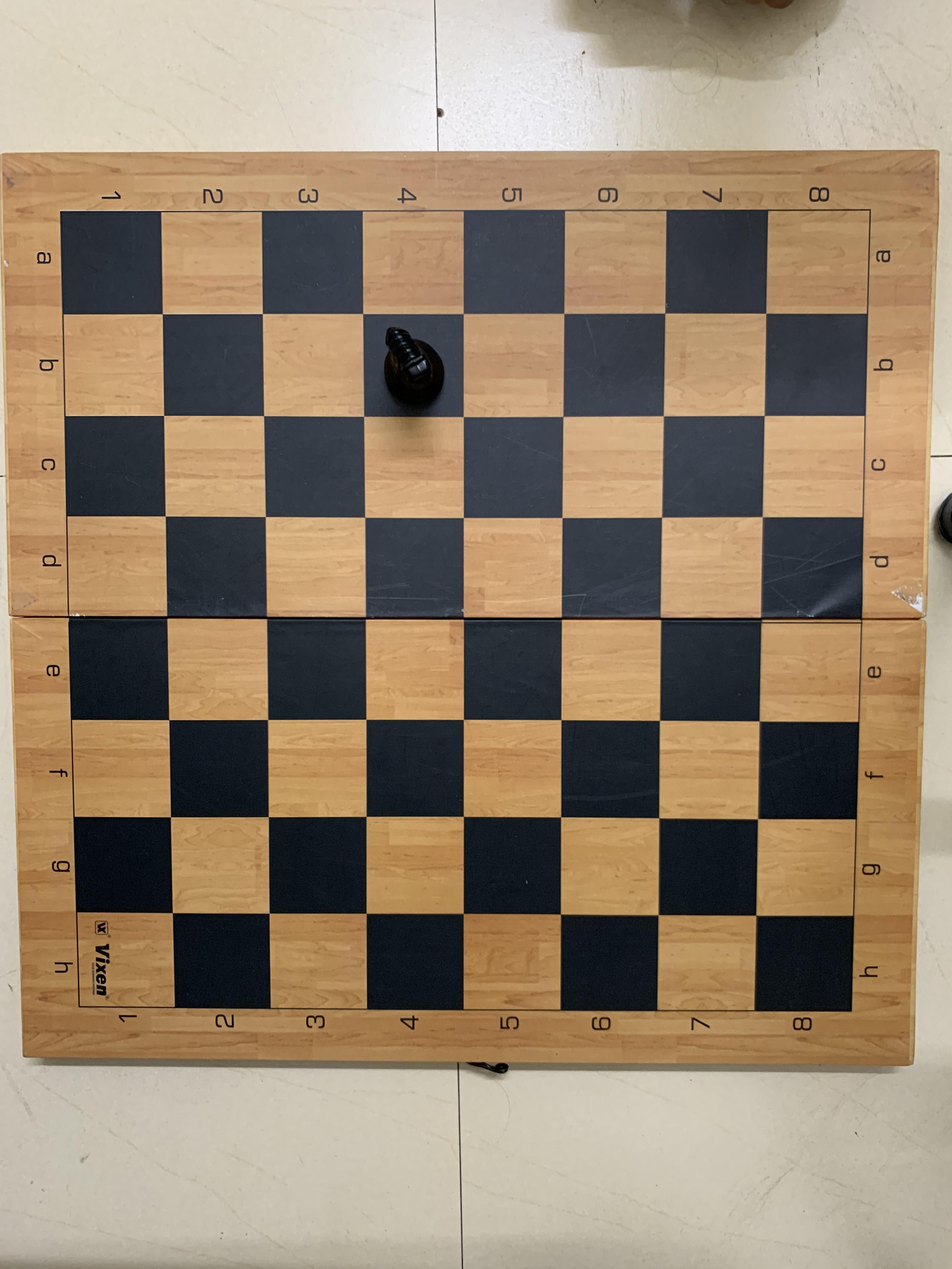black_knight: (363, 314, 465, 418)
